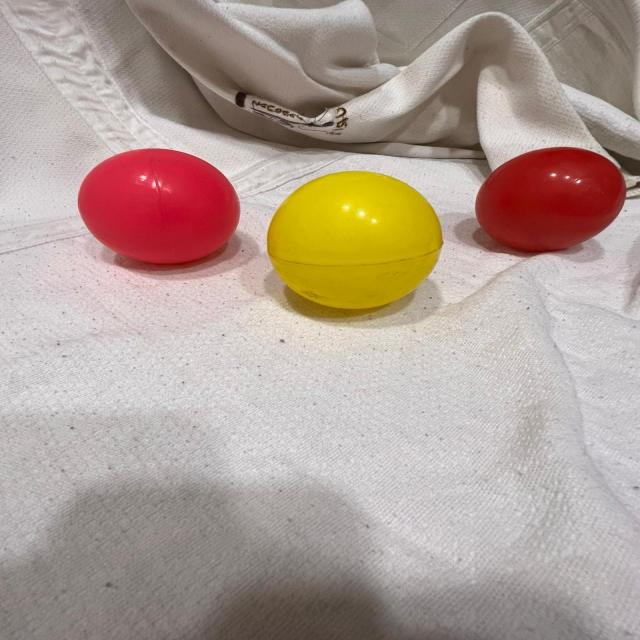ball: (264, 169, 444, 314), (74, 145, 244, 269), (474, 145, 630, 254)
